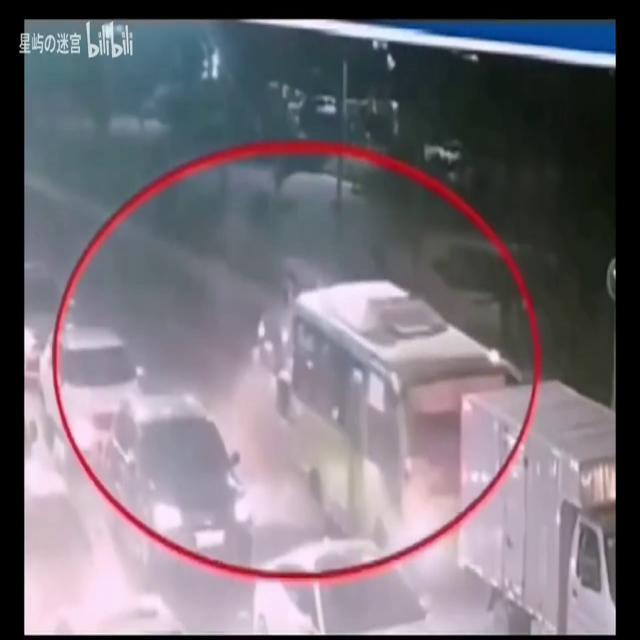accident: (228, 281, 508, 567)
non-accident: (25, 325, 252, 637)
